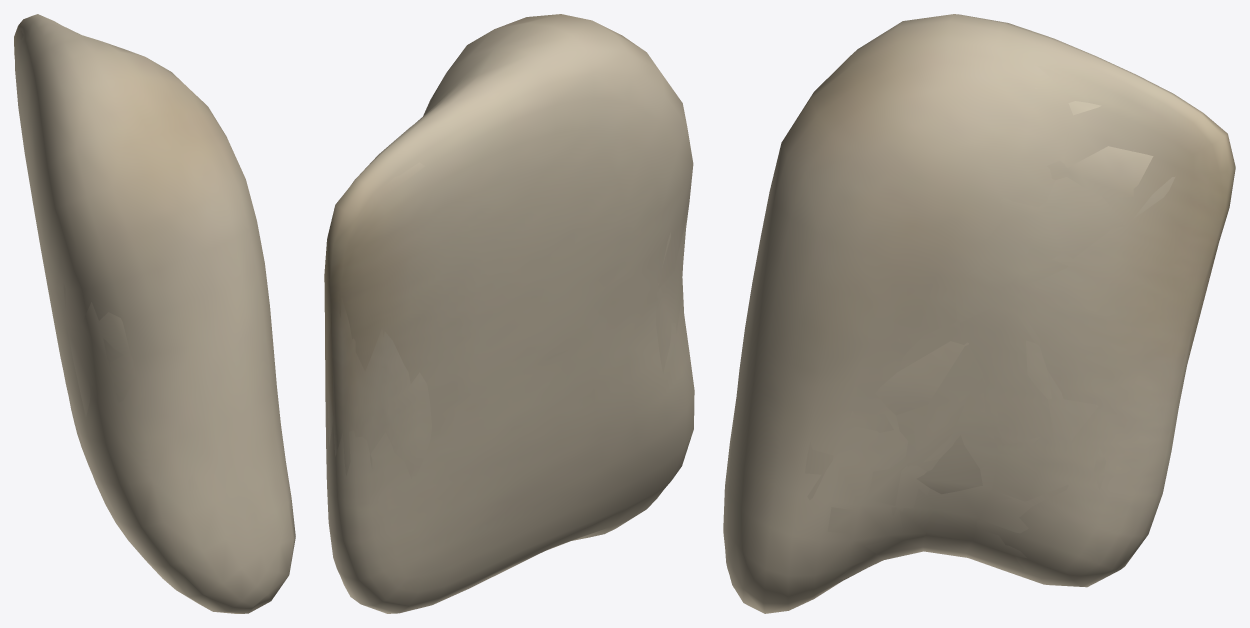
File: L tarsi secundum.fbx
3 renders of one model, left to right at view 1: azimuth 30°, elevation 25°; view 2: azimuth 150°, elevation 25°; view 3: azimuth 270°, elevation 25°, orthographic. The views are drawn at different scales.
Visible parts, largest first — view 1: L tarsi secundum high, L tarsi secundum; view 2: L tarsi secundum high, L tarsi secundum; view 3: L tarsi secundum high, L tarsi secundum, L tarsi secundum low.
Boxes of the visible parts, x1,y1,x2,y2 form: L tarsi secundum high: (14, 14, 295, 613); L tarsi secundum: (18, 30, 229, 490); L tarsi secundum high: (324, 14, 694, 613); L tarsi secundum: (326, 78, 686, 478); L tarsi secundum high: (723, 14, 1235, 613); L tarsi secundum: (732, 65, 1218, 579); L tarsi secundum low: (875, 101, 1153, 494).
Size of the model in its own units: 1.27 by 3.19 by 2.68.
